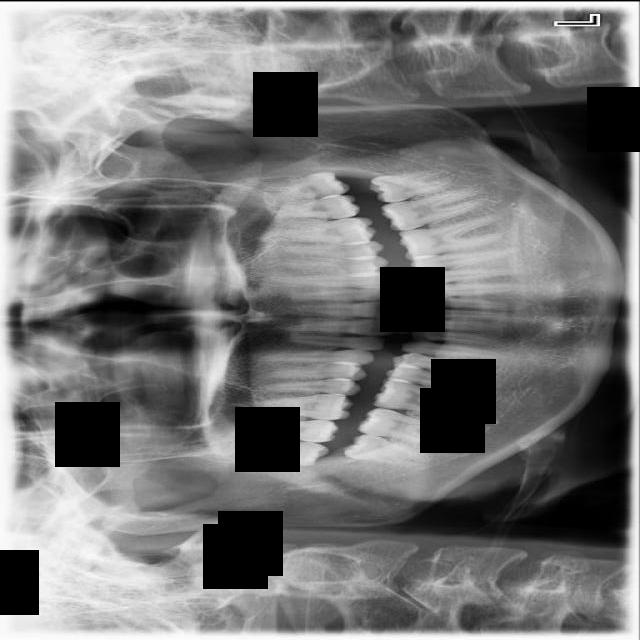3M ESPE Implant: (230, 435, 329, 467)
73: (544, 75, 554, 81)
BioHorizons Implant: (249, 193, 361, 221)
BioLife Implant: (257, 170, 350, 202)
Biomet 3i Implant: (367, 165, 459, 205)
Blue Sky Bio Implant: (379, 186, 485, 234)
Caries: (232, 417, 339, 446)
Implant: (356, 404, 458, 447)
Keystone Dental Implant: (342, 429, 425, 470)
